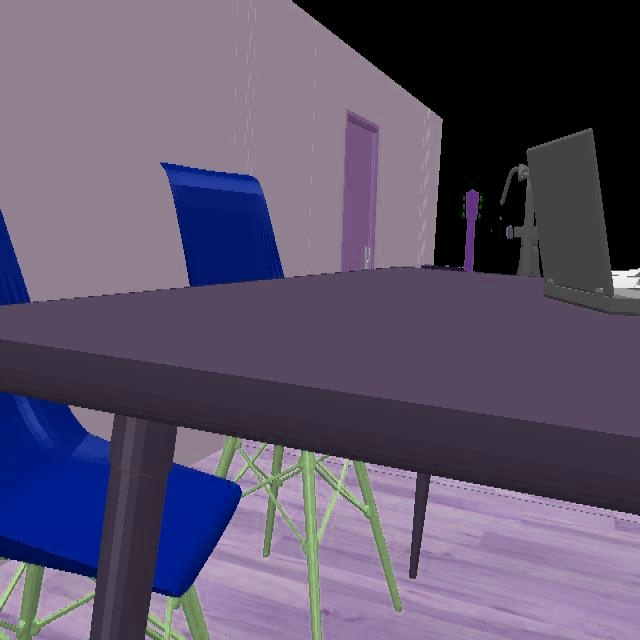chair: (153, 440, 375, 640), (0, 392, 110, 640), (163, 164, 285, 287), (0, 209, 30, 308)
laptop: (526, 128, 622, 308)
table: (0, 268, 640, 540)
